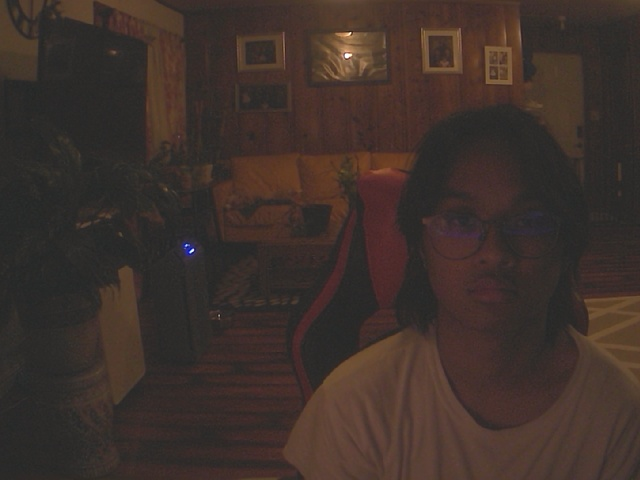neutral: (394, 101, 589, 336)
